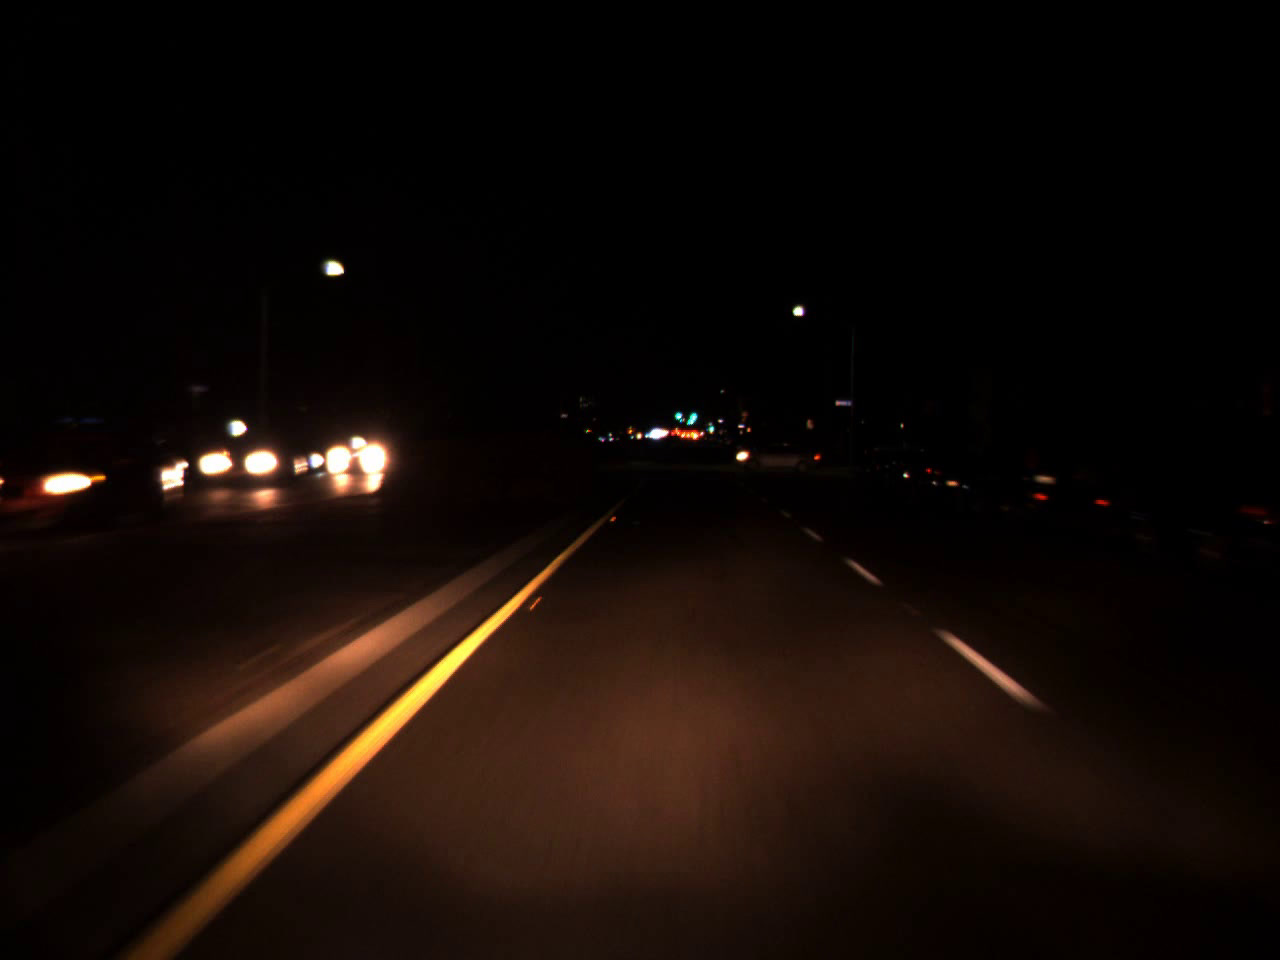go: (684, 399, 698, 429), (673, 398, 683, 425), (703, 417, 716, 435)
